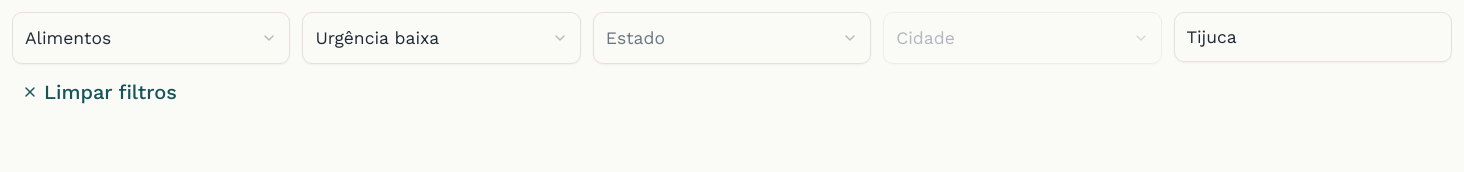
Test: NeedFiltersBar › limpa todos os filtros
Click the button "Limpar filtros": (99, 92) [12,76,187,108]
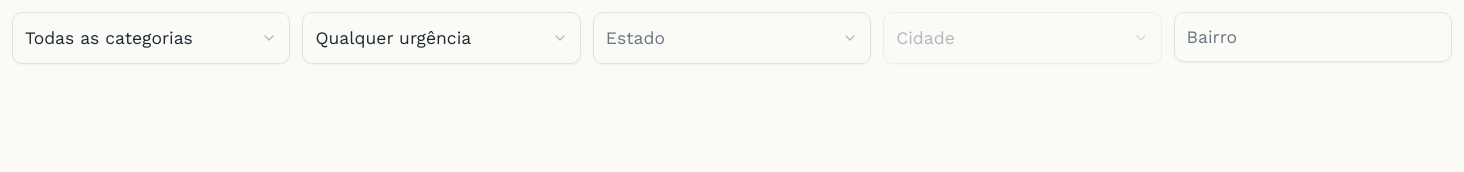
Expected: the button "Limpar filtros" is gone
